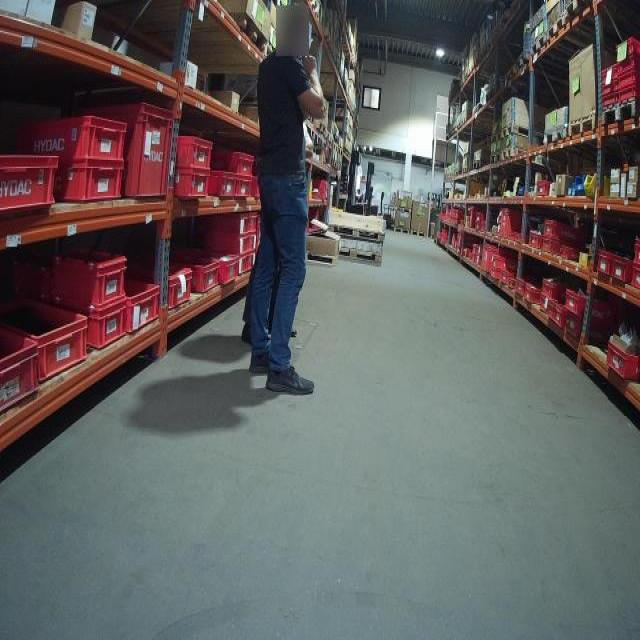pallet: (232, 10, 267, 53), (325, 220, 384, 243), (600, 97, 640, 129), (335, 246, 382, 267), (569, 114, 596, 138), (304, 251, 337, 270), (565, 1, 591, 24), (500, 124, 534, 140), (547, 17, 565, 44), (543, 129, 567, 144), (531, 36, 547, 57), (502, 149, 532, 159), (392, 227, 411, 236), (315, 121, 327, 135), (491, 152, 502, 165), (491, 130, 500, 144), (411, 231, 427, 238), (472, 161, 480, 169), (333, 142, 338, 153), (338, 148, 343, 156), (462, 168, 468, 174)
small_load_carrier: (8, 295, 92, 389), (118, 99, 181, 211), (4, 105, 128, 160), (60, 243, 129, 305), (2, 154, 63, 221), (53, 160, 127, 208), (4, 333, 41, 422), (161, 258, 202, 314), (86, 299, 129, 348), (130, 277, 166, 331), (602, 340, 639, 383), (195, 249, 226, 300), (195, 233, 257, 258), (172, 170, 212, 204), (210, 149, 256, 176), (562, 287, 603, 316), (176, 140, 213, 170), (203, 213, 258, 231), (206, 170, 234, 201), (220, 250, 241, 290), (612, 254, 629, 287), (232, 175, 255, 199), (546, 216, 574, 235), (564, 317, 590, 336), (499, 211, 516, 240), (551, 301, 567, 331), (234, 253, 255, 275), (541, 281, 564, 301), (596, 251, 612, 278), (540, 237, 559, 259), (506, 277, 529, 295), (526, 285, 546, 305), (616, 84, 637, 102), (597, 90, 618, 108), (306, 180, 327, 198), (618, 55, 638, 73), (615, 40, 638, 55), (596, 75, 618, 90), (536, 179, 551, 198), (562, 247, 580, 260), (632, 235, 640, 263), (528, 234, 542, 250), (540, 299, 553, 316), (486, 268, 500, 283), (618, 73, 637, 84), (630, 266, 639, 289), (492, 254, 509, 266), (602, 63, 618, 74), (502, 268, 511, 286), (516, 282, 524, 296)
